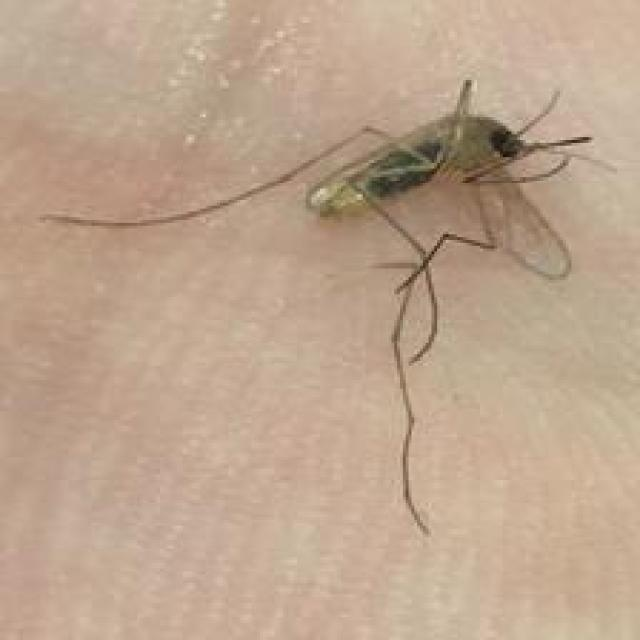Culex: (39, 76, 618, 536)
